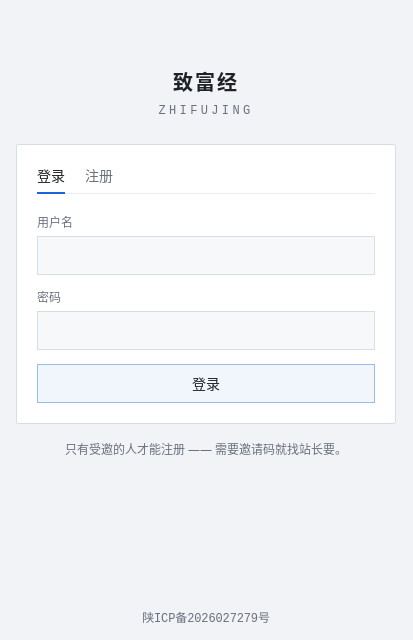
Test: P1-E 登录前的注销等待结果 › unavailable 时给出降级提示，但允许登录并校验会话
Type "u1" into the field labelled "用户名".
click(206, 256); type("u1")  # box [37,236,375,275]
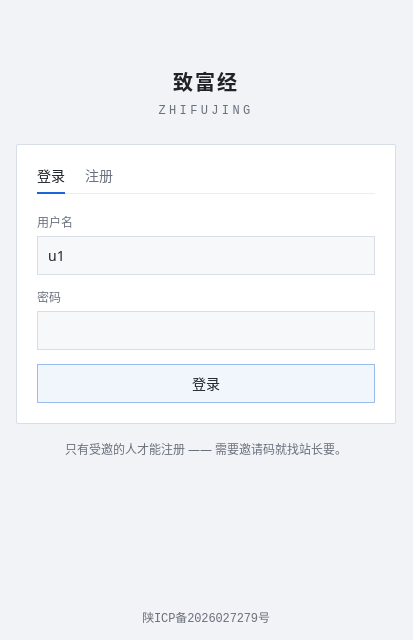
Type "Test12345!" into the password field labelled "密码".
click(206, 331); type("Test12345!")  # box [37,311,375,350]
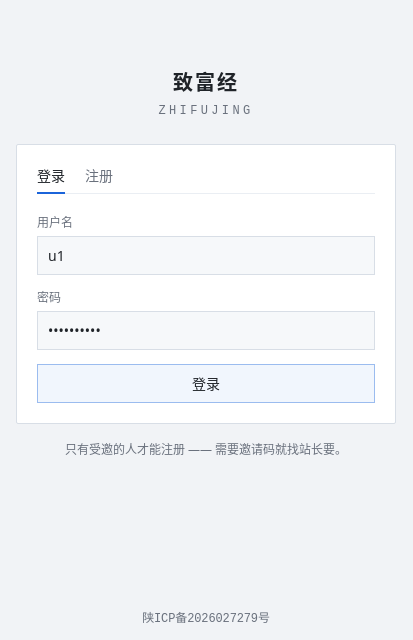
Click the submit button.
click(206, 384)  # box [37,364,375,403]
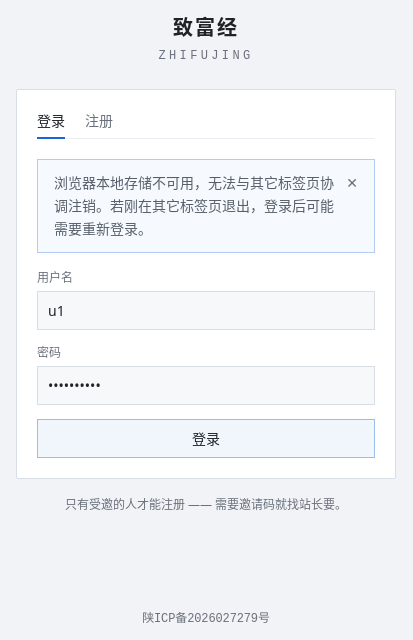
Now the text "浏览器本地存储不可用，无法与其它标签页协调注销。若刚在其它标签页退出，登录后可能需要重新登录。" is shown, box [54,172,336,240]
